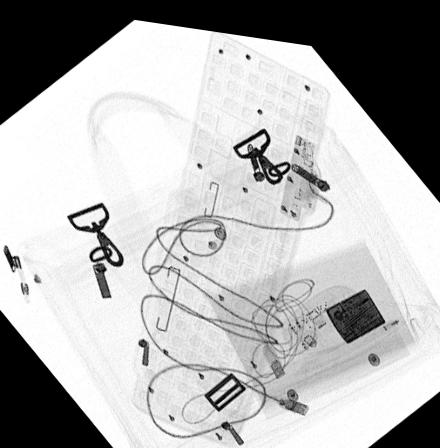Lighter: (325, 276, 384, 332)
